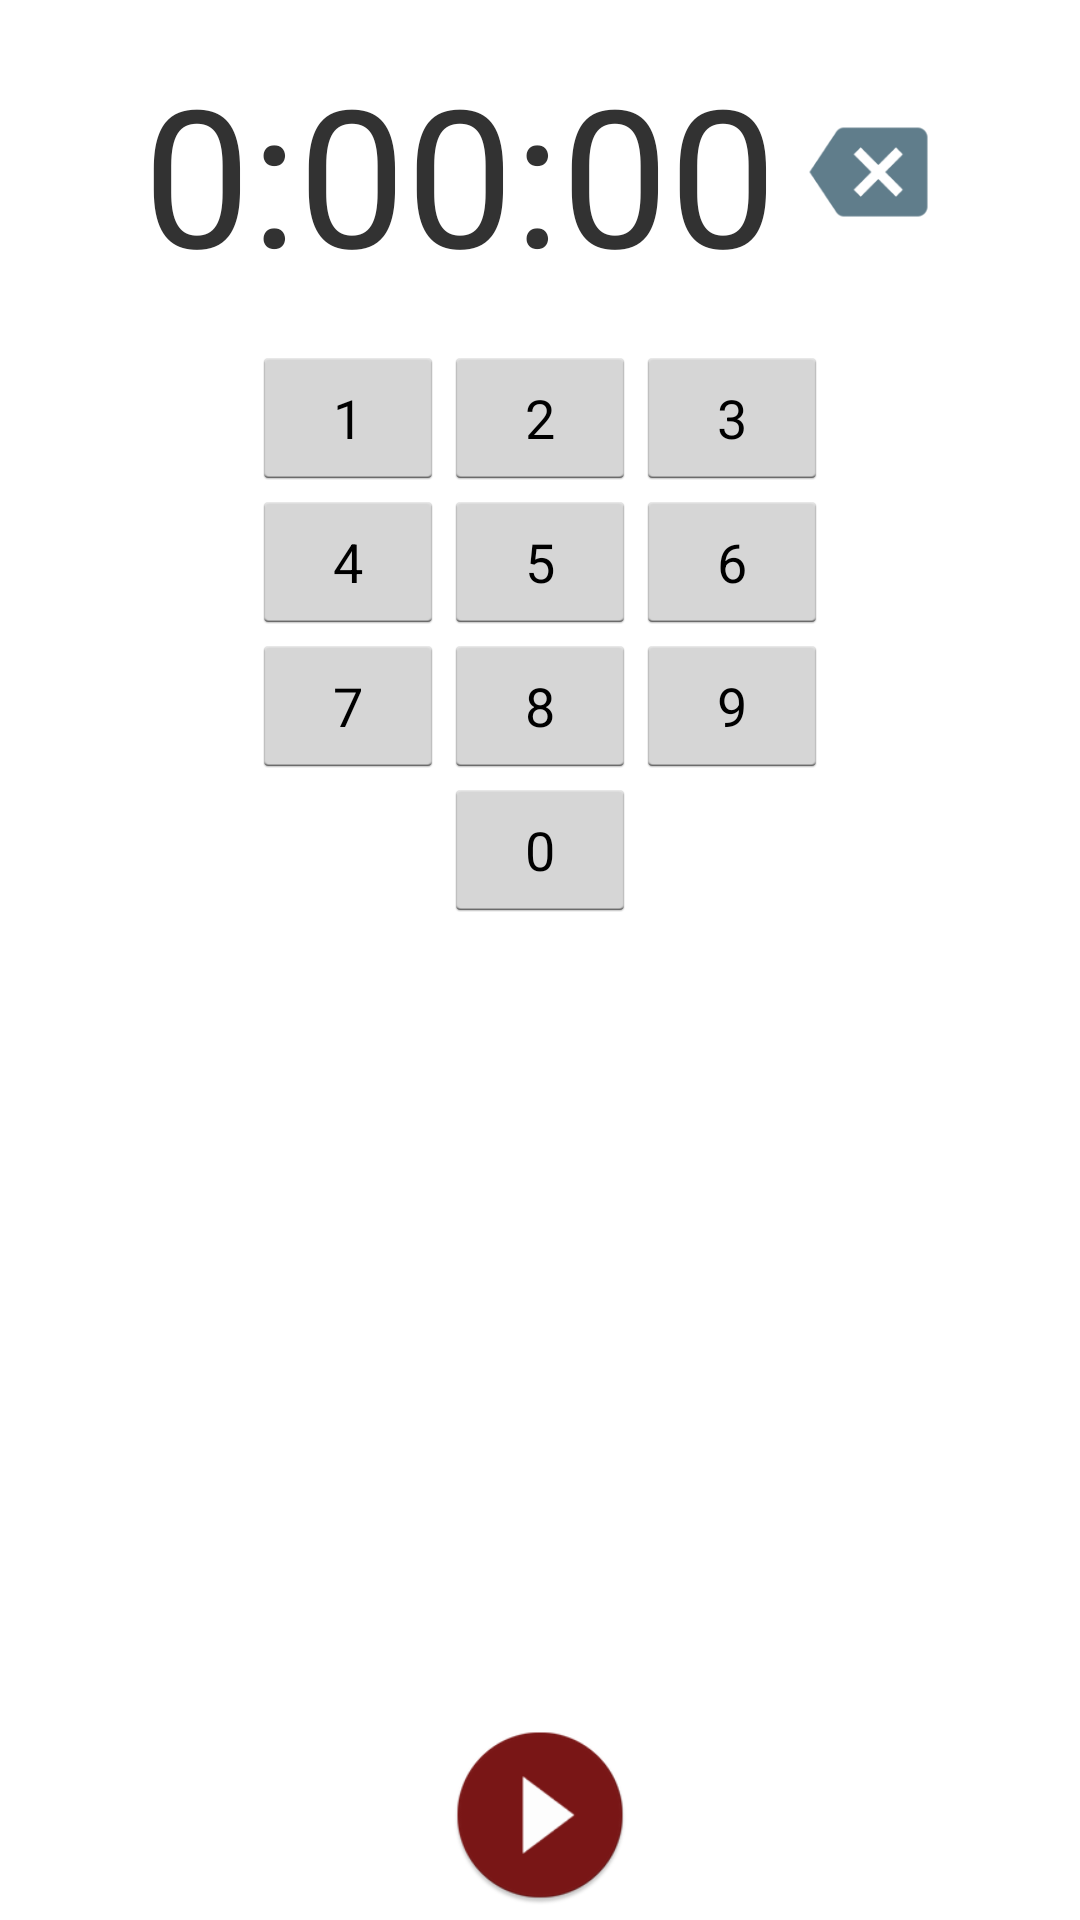

Where to tap for icons on this 1080px x 1920px app screen, as (x=x, y=y):
back space: (x=868, y=172)
play: (x=540, y=1817)
